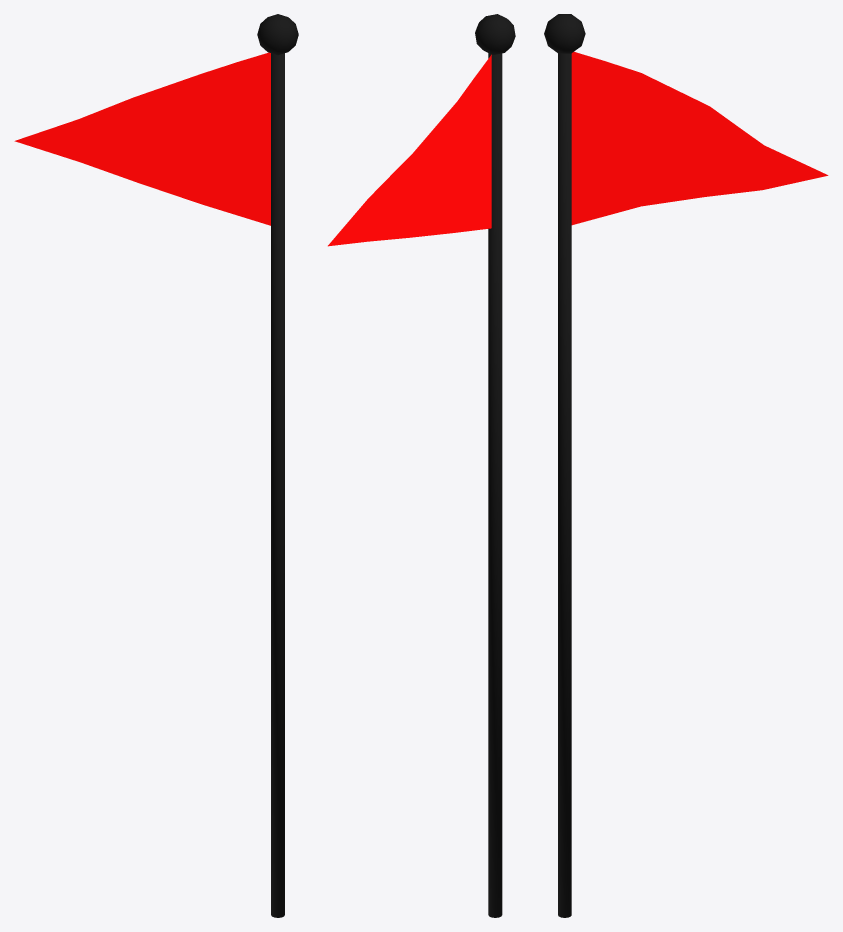
Rendered from Flag.glb.
The picture shows the model from 3 angles, left to right: view 1: azimuth 90°, elevation 25°; view 2: azimuth 150°, elevation 25°; view 3: azimuth 270°, elevation 25°; orthographic projection.
Visible parts, largest first — view 1: Flag; view 2: Flag; view 3: Flag.
Part boxes in pixels (box(x1,y1,x2,y2)): Flag: box(14, 14, 298, 917); Flag: box(328, 14, 515, 917); Flag: box(544, 14, 828, 917).
Size of the model in its own units: 0.8853 by 14.3 by 4.1.
Materials: 1 (1 with a texture image).
